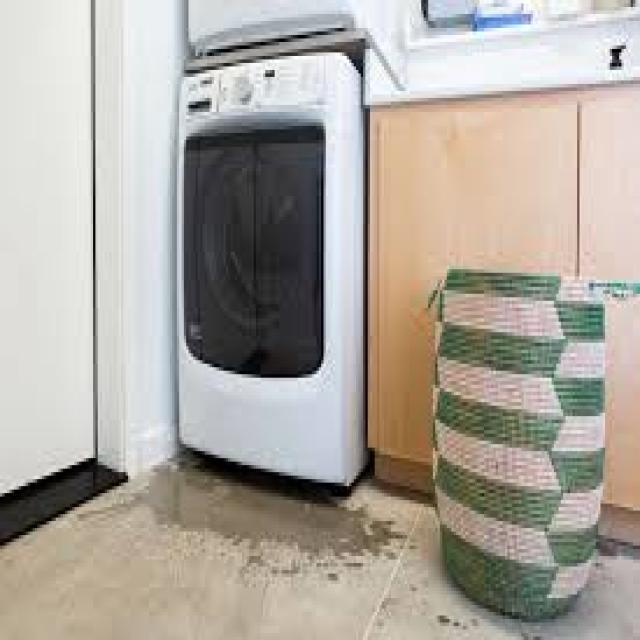water accumulation: (134, 443, 390, 584)
